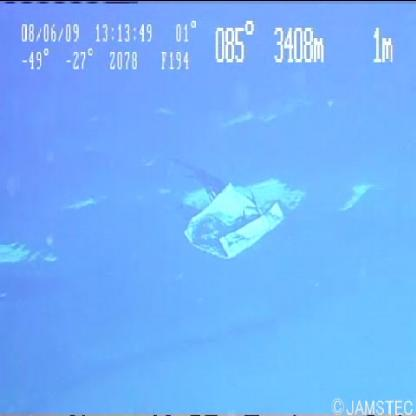Rác: (175, 163, 317, 269)
